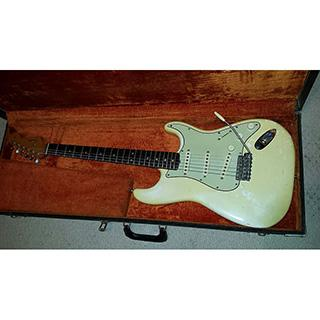Fender Stratocaster: (7, 109, 298, 230)
SSS: (182, 149, 236, 179)
